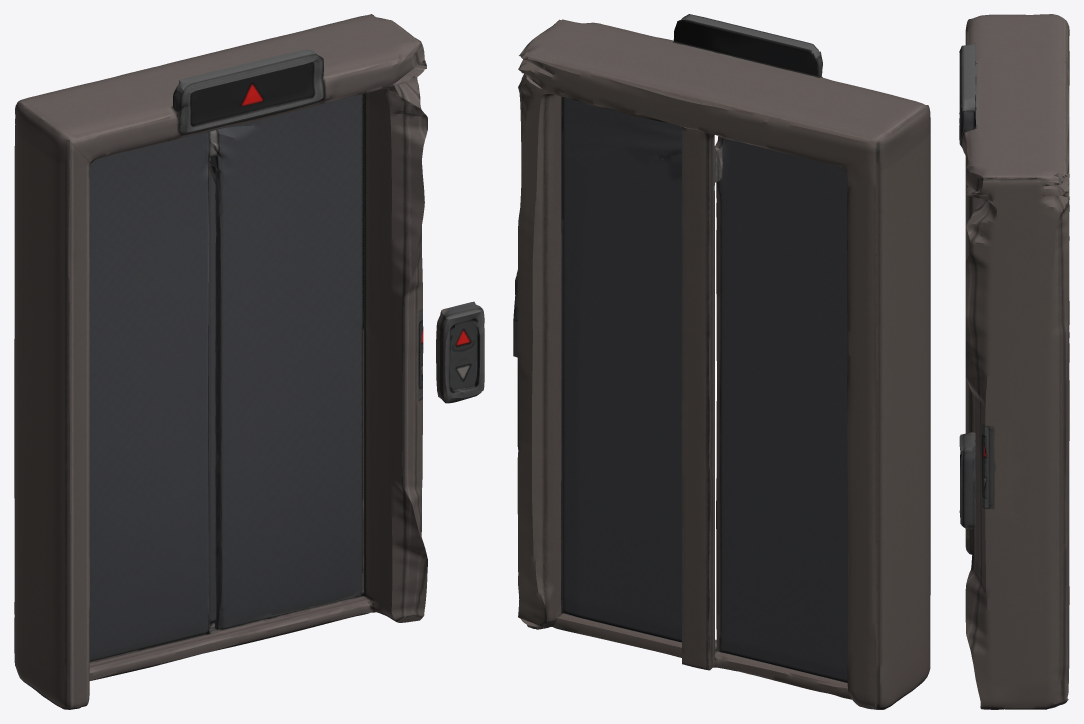
Rendered from Elevator.fbx.
3 views of the same model, side by side, from view 1: azimuth 30°, elevation 25°; view 2: azimuth 150°, elevation 25°; view 3: azimuth 270°, elevation 25° (orthographic). The views are drawn at different scales.
Visible parts, largest first — view 1: output; view 2: output; view 3: output.
Boxes of the visible parts, x1,y1,x2,y2 form: output: (14,14,484,709); output: (513,14,930,709); output: (959,14,1069,709).
Bounding box in the file's own units: 138 × 190 × 34.08.
1 material, 1 textured.
